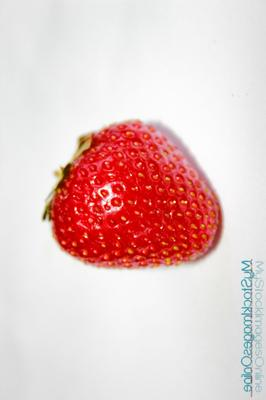strawberry: (0, 0, 266, 400)
